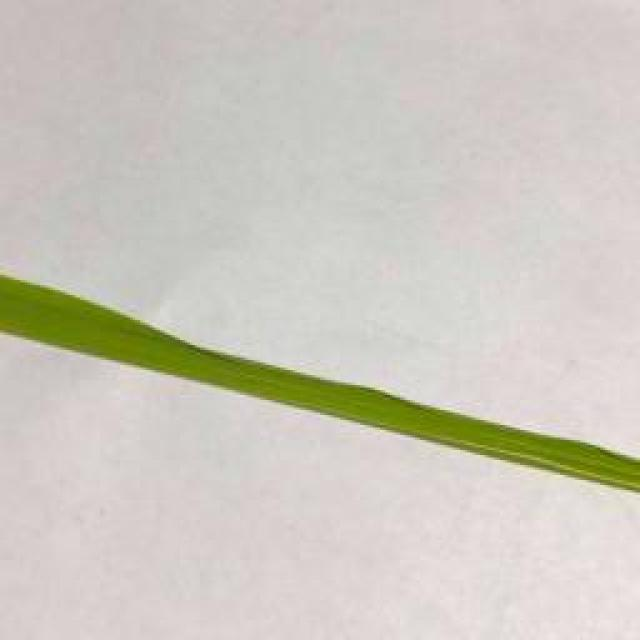Healthy-Plant: (0, 274, 640, 495)
